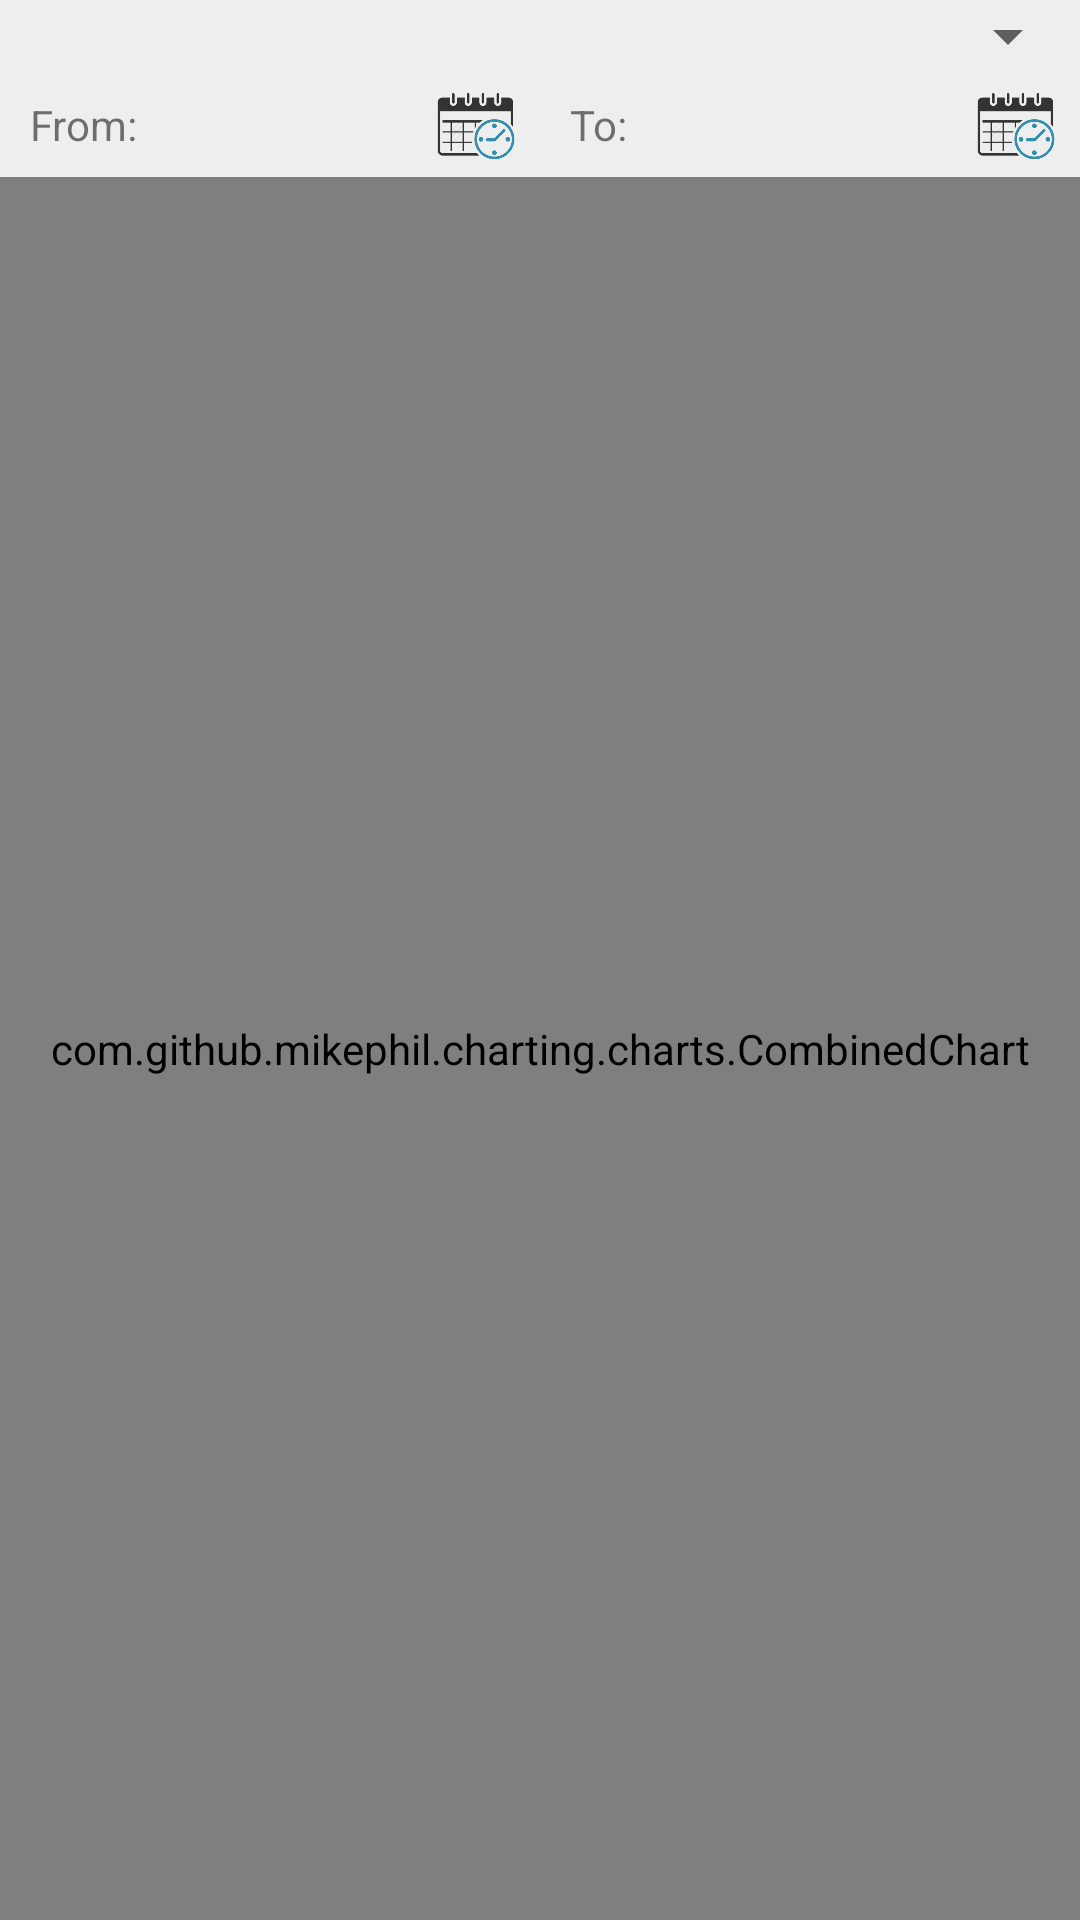

Icons on this 1080px×1920px Android screen, each with the point to tap as point (x, y):
calendar: point (476, 126), point (1016, 126)
